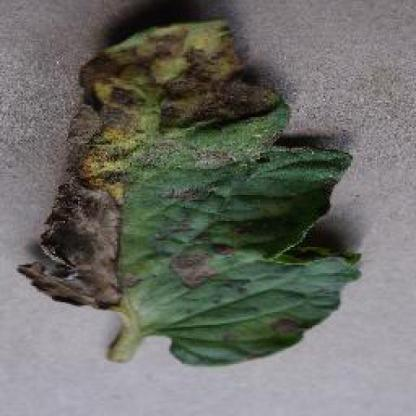Tomato_Blight: (18, 20, 361, 366)
